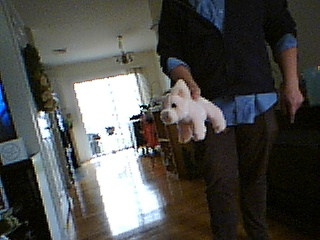piggy: (154, 77, 228, 146)
